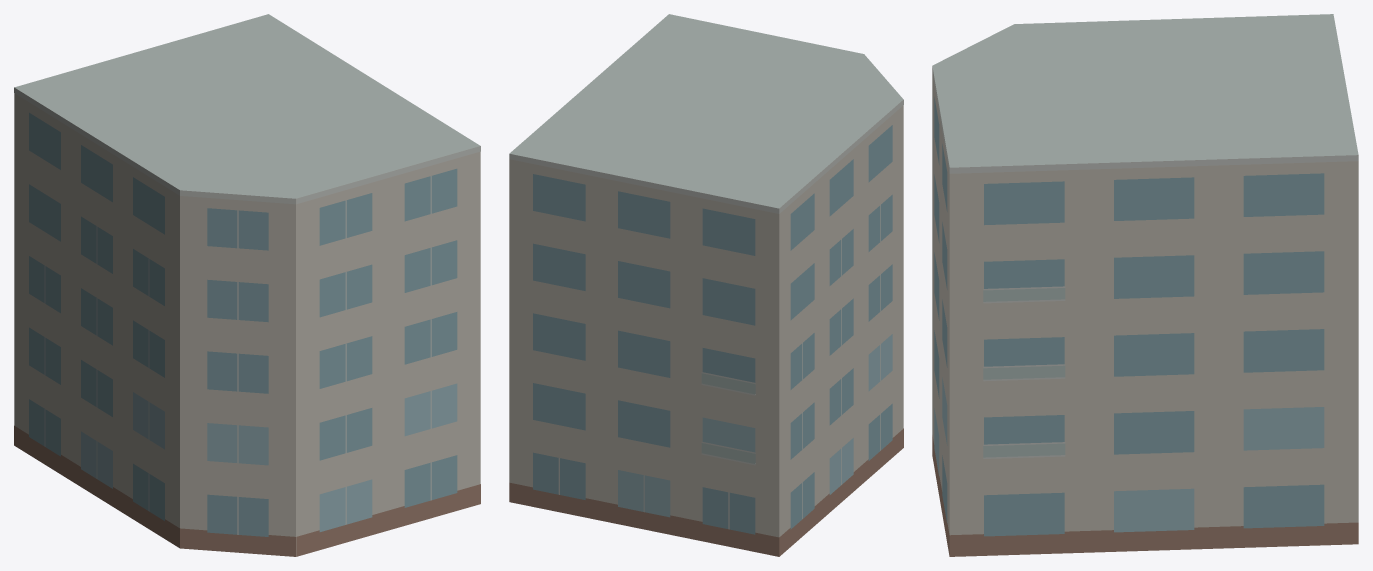
Rendered from survey-upis-32757653.glb.
3 views of the same model, side by side, from view 1: azimuth 30°, elevation 25°; view 2: azimuth 150°, elevation 25°; view 3: azimuth 270°, elevation 25° (orthographic). The views are drawn at different scales.
Visible parts, largest first — view 1: survey-upis-32757653.tmp; view 2: survey-upis-32757653.tmp; view 3: survey-upis-32757653.tmp.
Part boxes in pixels (<box>): survey-upis-32757653.tmp: <box>14,14,480,556</box>; survey-upis-32757653.tmp: <box>509,14,903,556</box>; survey-upis-32757653.tmp: <box>932,14,1358,556</box>.
Bounding box in the file's own units: 13.23 × 15.6 × 15.5.
